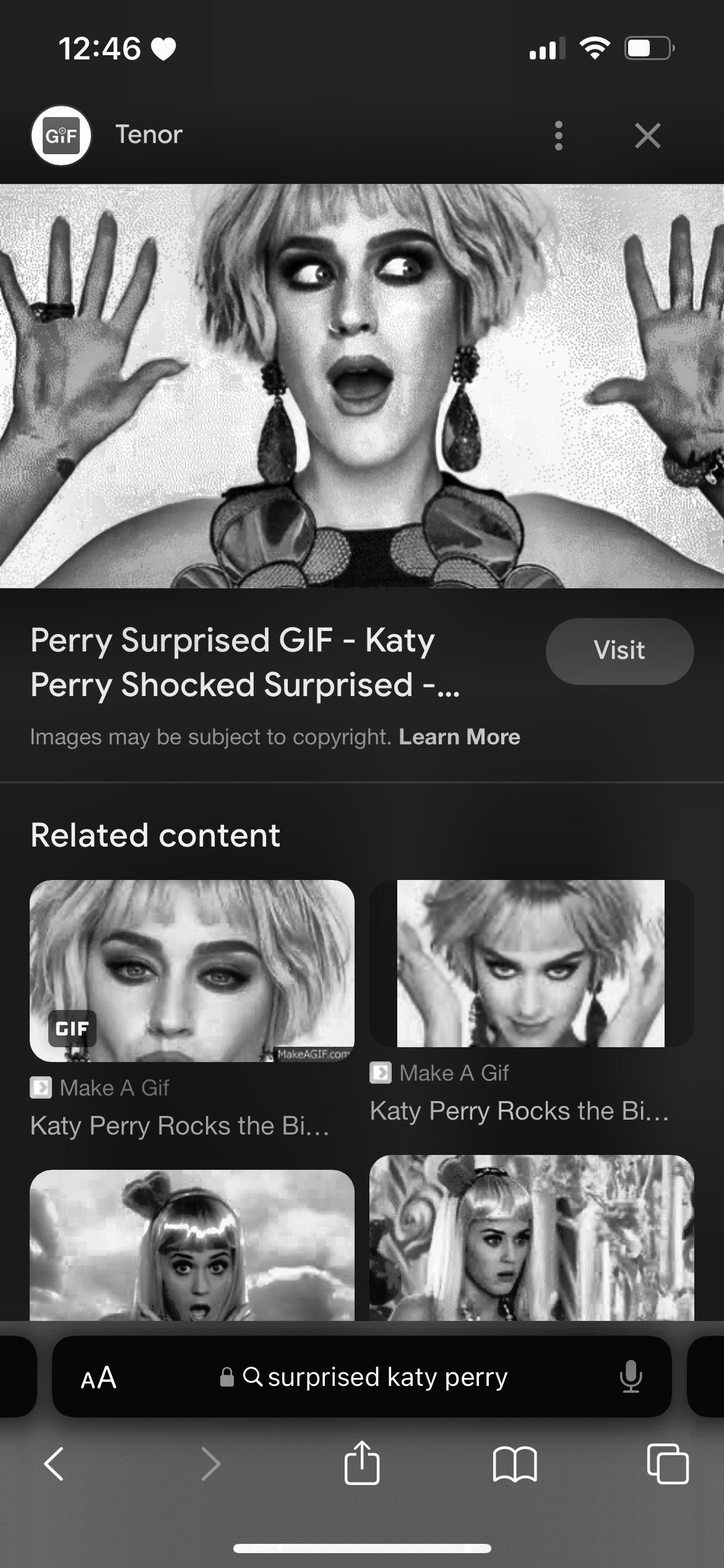surprised: (268, 206, 468, 466)
